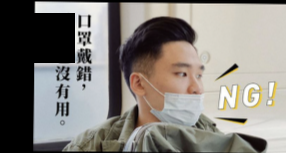mask_weared_incorrect: (149, 60, 205, 126)
